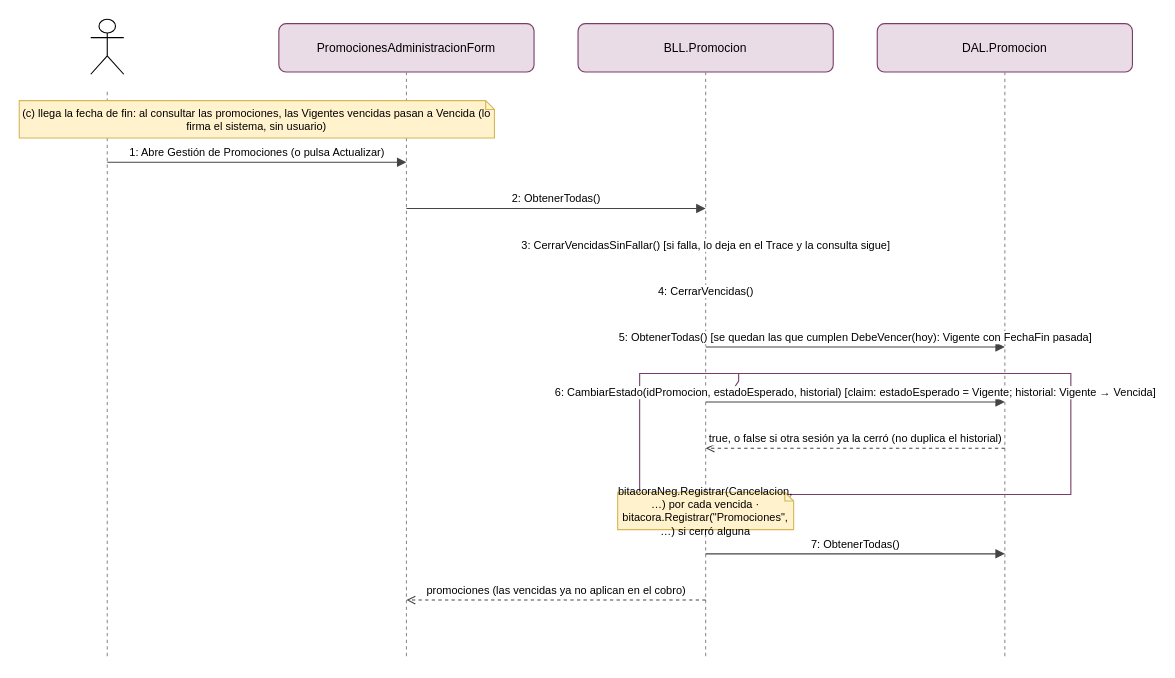
This 1175x678 diagram has some shape labels left out. The shapes that lost their labels are listed below. From the top down, each one's box as (x1, y1, x2, y2) in pixels, then its label:
(90, 18, 124, 74): Administración
(639, 372, 1071, 494): loop [Por cada promoción que debe vencer]
